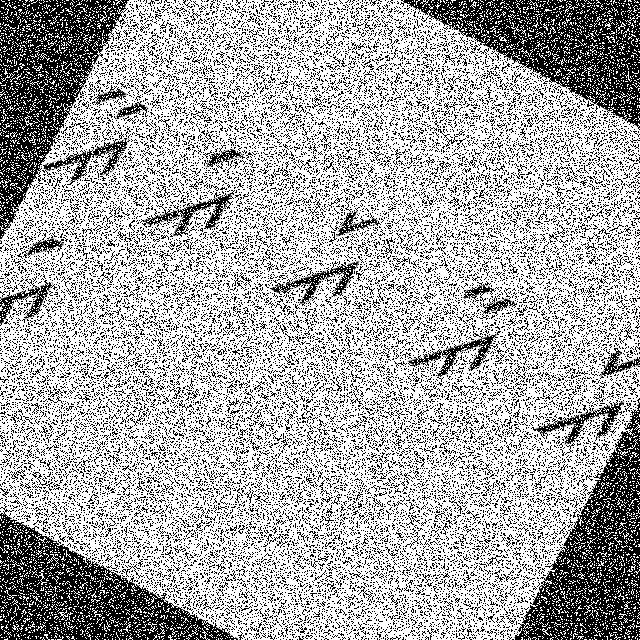kan: (384, 255, 527, 410), (37, 69, 164, 211)
kang: (134, 118, 264, 268), (0, 213, 82, 361)
kar: (254, 178, 396, 334), (518, 314, 639, 469)
